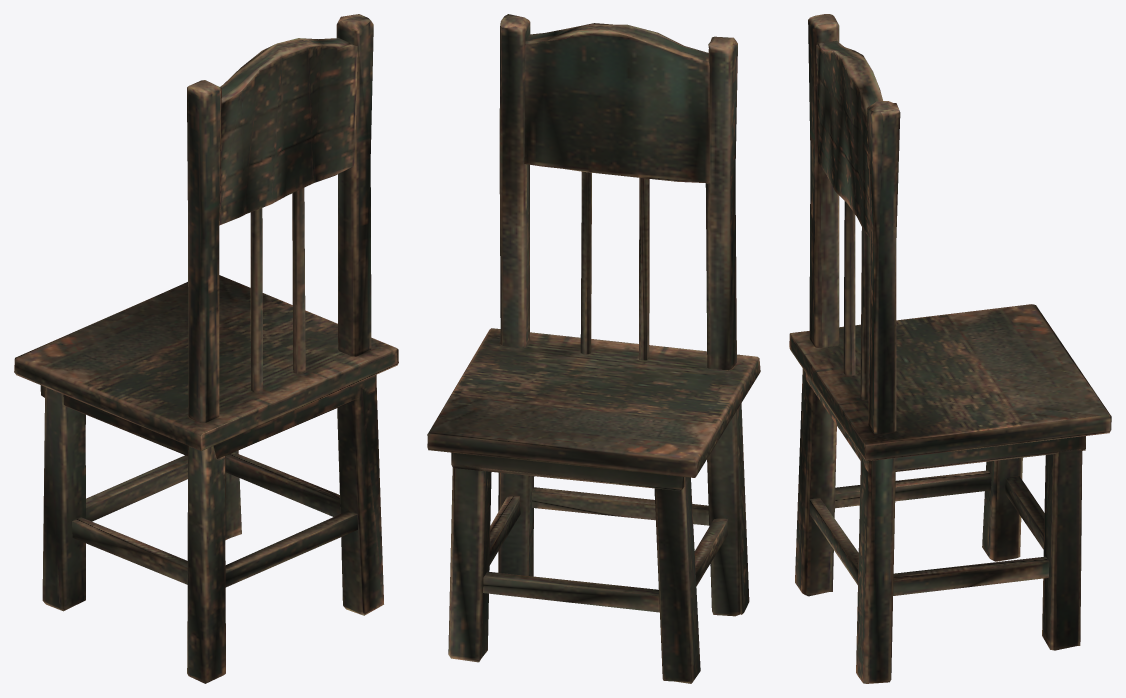
Rendered from dining_table chair.fbx.
The picture shows the model from 3 angles, left to right: view 1: azimuth 30°, elevation 25°; view 2: azimuth 150°, elevation 25°; view 3: azimuth 270°, elevation 25°; orthographic projection. The views are drawn at different scales.
Parts seen in each view (by area): view 1: dining_table chair; view 2: dining_table chair; view 3: dining_table chair.
Boxes of the visible parts, <box> form: dining_table chair: <box>14,14,398,683</box>; dining_table chair: <box>427,14,760,683</box>; dining_table chair: <box>789,14,1111,683</box>.
Bounding box in the file's own units: 185 × 350 × 178.
Materials: 1 (1 with a texture image).
